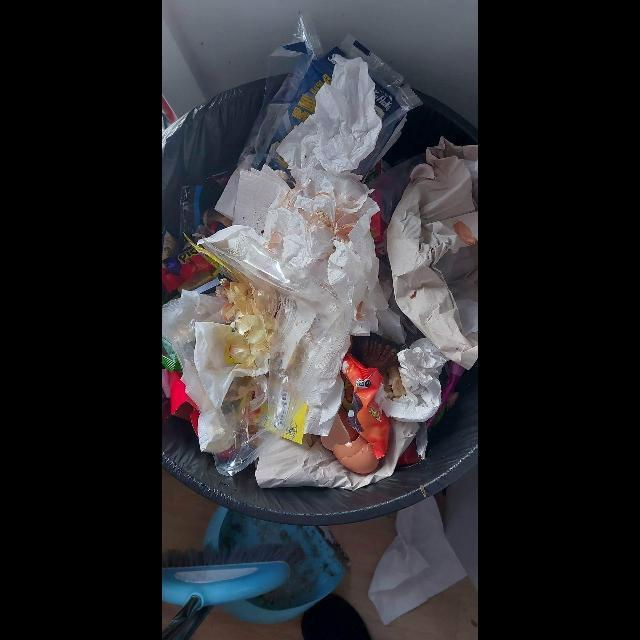food_wrapper: (236, 12, 422, 176), (340, 353, 390, 459), (162, 232, 218, 293)
paper: (388, 136, 478, 372), (276, 54, 383, 186), (215, 155, 335, 267), (255, 417, 420, 491), (194, 315, 275, 410), (327, 208, 379, 332), (382, 339, 446, 423)
